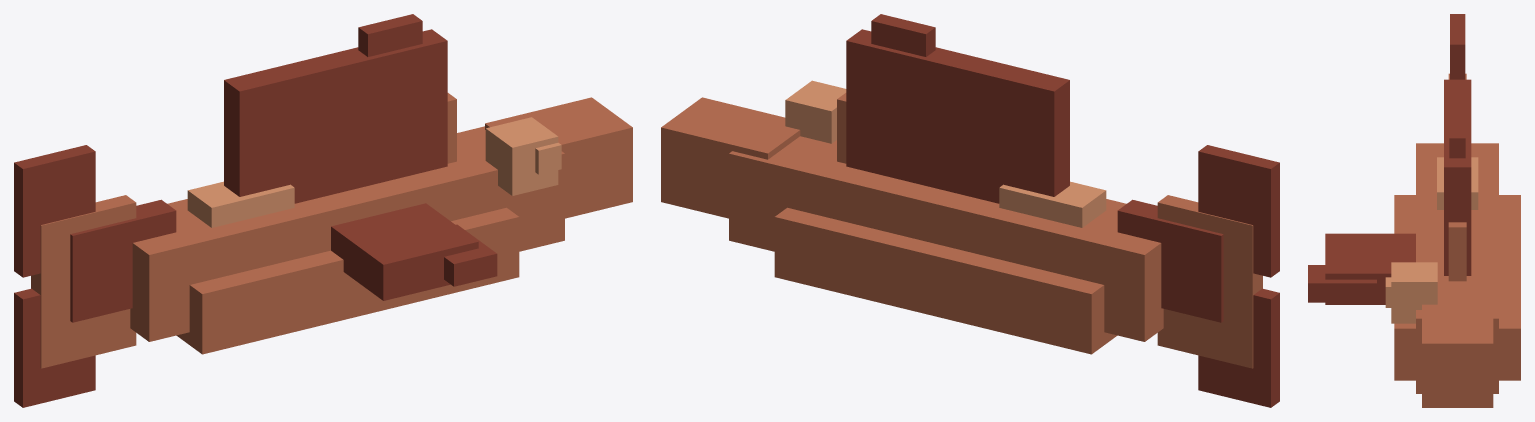
Rendered from fish_cinder_smelt.glb.
The picture shows the model from 3 angles, left to right: view 1: azimuth 30°, elevation 25°; view 2: azimuth 150°, elevation 25°; view 3: azimuth 270°, elevation 25°; orthographic projection. The views are drawn at different scales.
Parts seen in each view (by area): view 1: FishArt_body, FishArt_dorsal, FishArt_tail, FishArt_pectoral, FishArt_eye, FishArt_specialty; view 2: FishArt_body, FishArt_dorsal, FishArt_tail, FishArt_specialty, FishArt_eye; view 3: FishArt_body, FishArt_pectoral, FishArt_dorsal, FishArt_eye, FishArt_tail, FishArt_specialty.
Boxes of the visible parts, x1=… form: FishArt_body: x1=31, y1=93, x2=632, y2=368; FishArt_dorsal: x1=224, y1=14, x2=447, y2=203; FishArt_tail: x1=14, y1=145, x2=176, y2=407; FishArt_pectoral: x1=331, y1=203, x2=497, y2=300; FishArt_eye: x1=485, y1=117, x2=561, y2=195; FishArt_specialty: x1=187, y1=181, x2=294, y2=227; FishArt_body: x1=661, y1=93, x2=1262, y2=368; FishArt_dorsal: x1=846, y1=14, x2=1069, y2=203; FishArt_tail: x1=1117, y1=145, x2=1279, y2=407; FishArt_specialty: x1=999, y1=181, x2=1106, y2=227; FishArt_eye: x1=785, y1=80, x2=846, y2=143; FishArt_body: x1=1394, y1=73, x2=1520, y2=407; FishArt_pectoral: x1=1308, y1=233, x2=1415, y2=304; FishArt_dorsal: x1=1444, y1=79, x2=1471, y2=275; FishArt_eye: x1=1385, y1=262, x2=1437, y2=323; FishArt_tail: x1=1450, y1=14, x2=1465, y2=79; FishArt_specialty: x1=1437, y1=157, x2=1478, y2=209.
Bounding box in the file's own units: 0.3091 × 0.1442 × 0.111.
